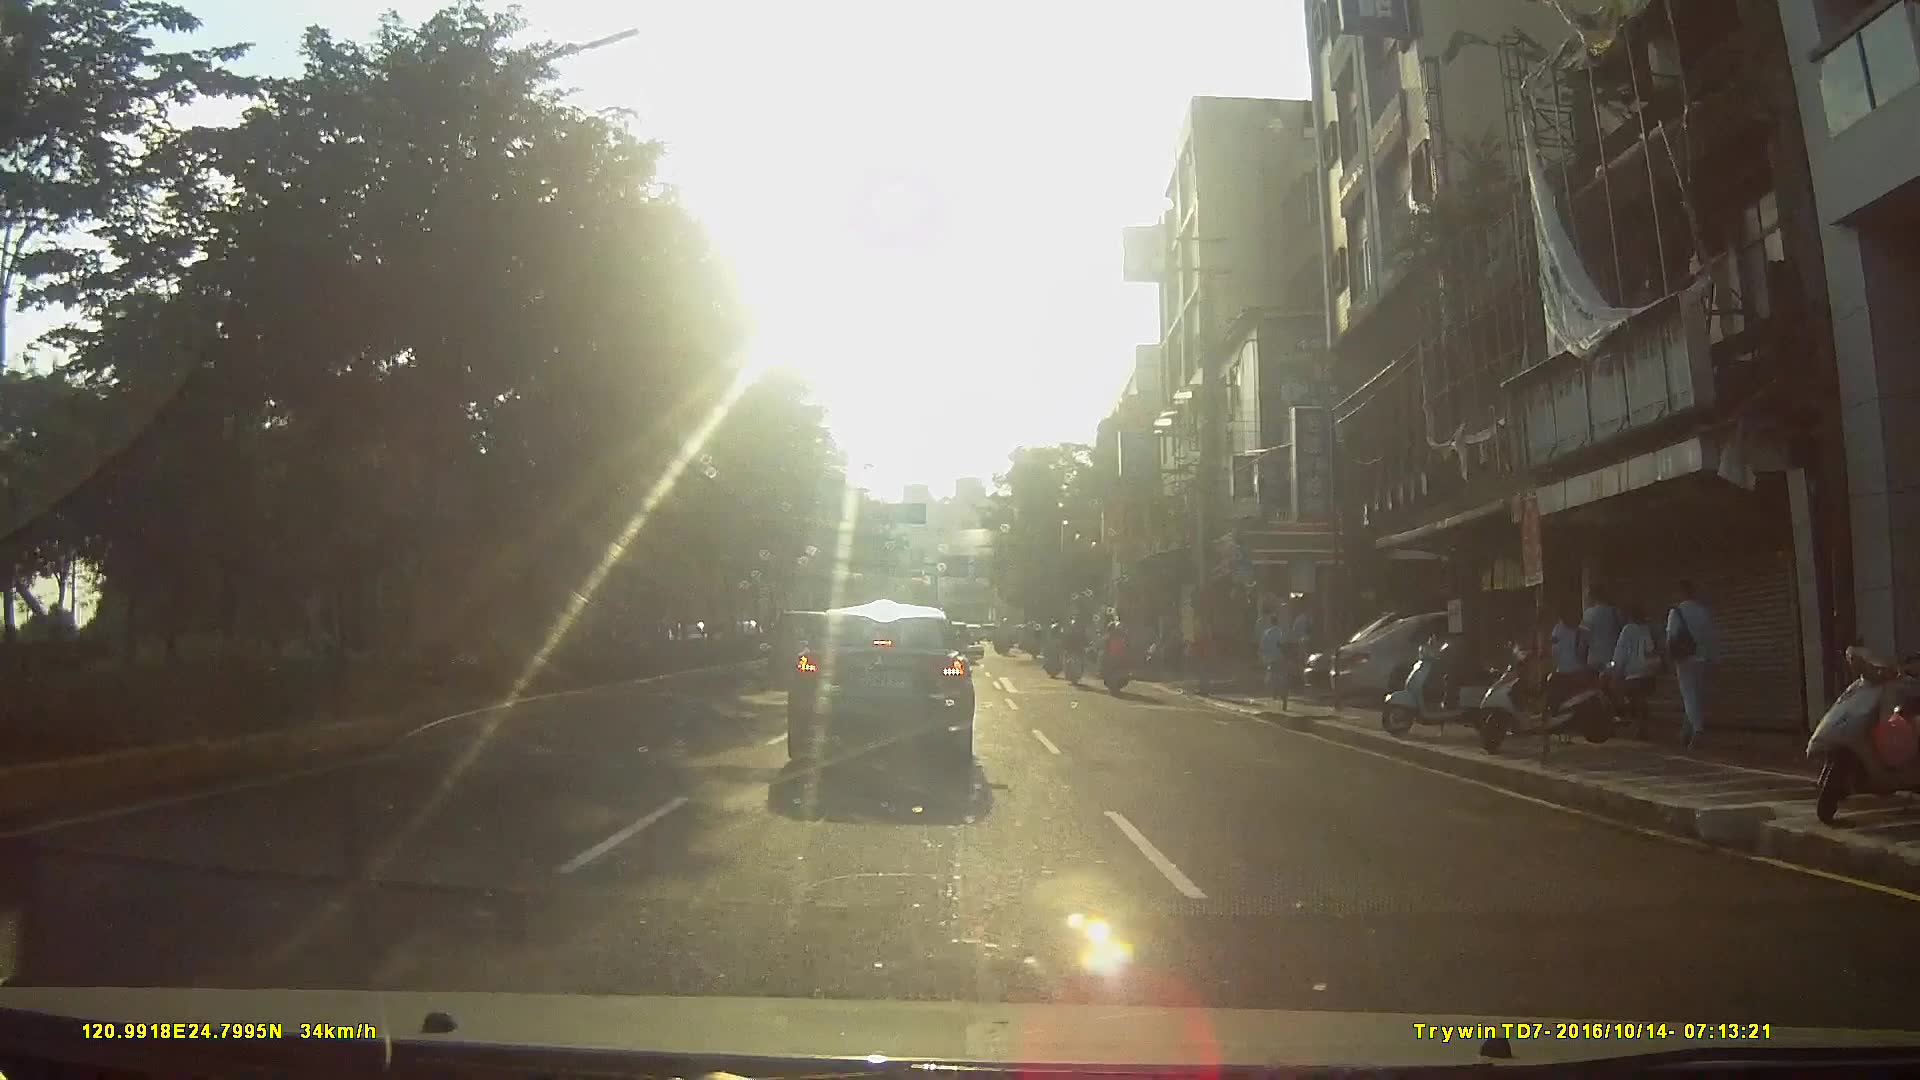pedestrian: (1661, 575, 1712, 739), (1610, 604, 1665, 729), (1577, 577, 1623, 713), (1257, 606, 1290, 703)
rider: (1101, 615, 1138, 695), (1061, 616, 1089, 687), (1040, 620, 1067, 679)
vehicle: (775, 592, 995, 786), (1330, 601, 1613, 709)
